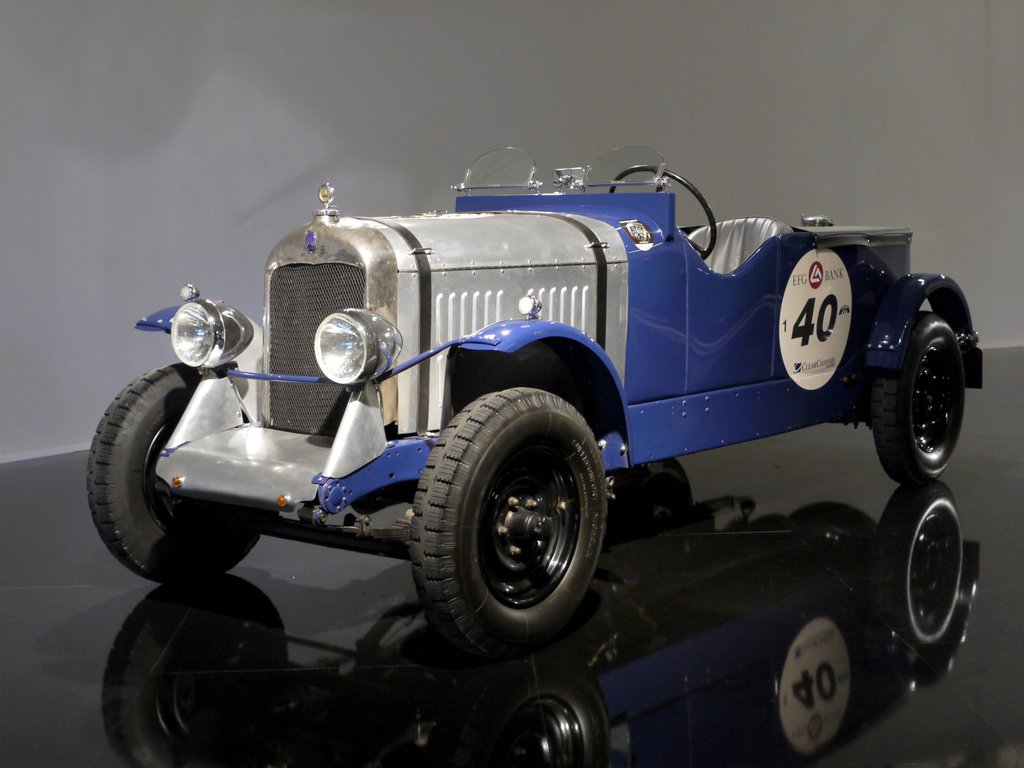Car: (111, 108, 989, 743)
